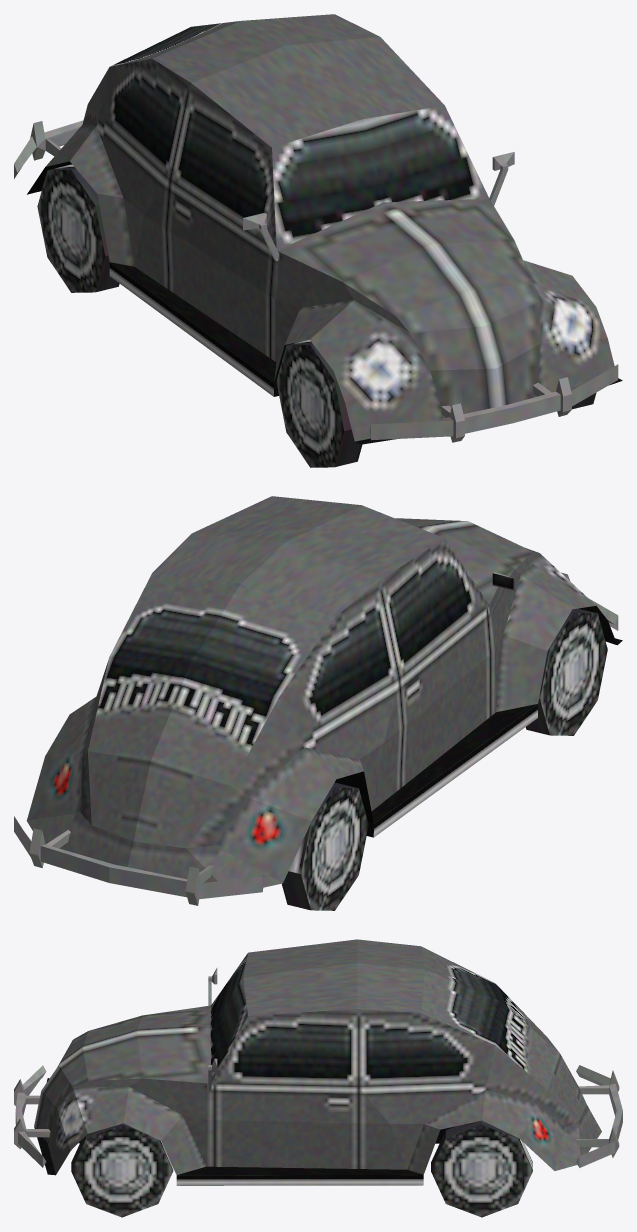
The model's file is petagris.fbx.
The picture shows the model from 3 angles, top to bottom: view 1: azimuth 30°, elevation 25°; view 2: azimuth 150°, elevation 25°; view 3: azimuth 270°, elevation 25°; orthographic projection. The views are drawn at different scales.
Visible parts, largest first — view 1: compact_classic, wheel_FR, wheel_RR; view 2: compact_classic, wheel_RR, wheel_FR; view 3: compact_classic, wheel_RL, wheel_FL.
Part boxes in pixels (x1,y1,x2,y2): compact_classic: (14,14,622,444); wheel_FR: (276,340,362,467); wheel_RR: (37,164,119,292); compact_classic: (14,496,622,905); wheel_RR: (282,782,368,910); wheel_FR: (525,608,607,735); compact_classic: (14,939,622,1185); wheel_RL: (431,1120,532,1217); wheel_FL: (71,1123,173,1217).
Size of the model in its own units: 158 by 153 by 406.
